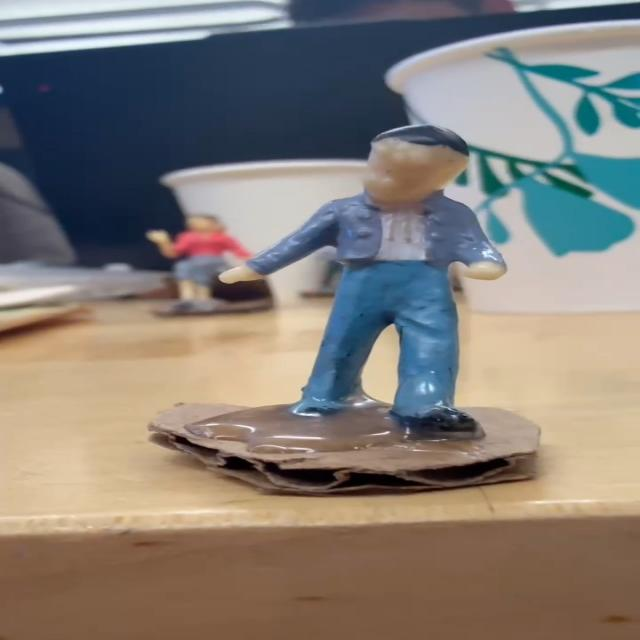Authorized: (206, 121, 526, 433)
